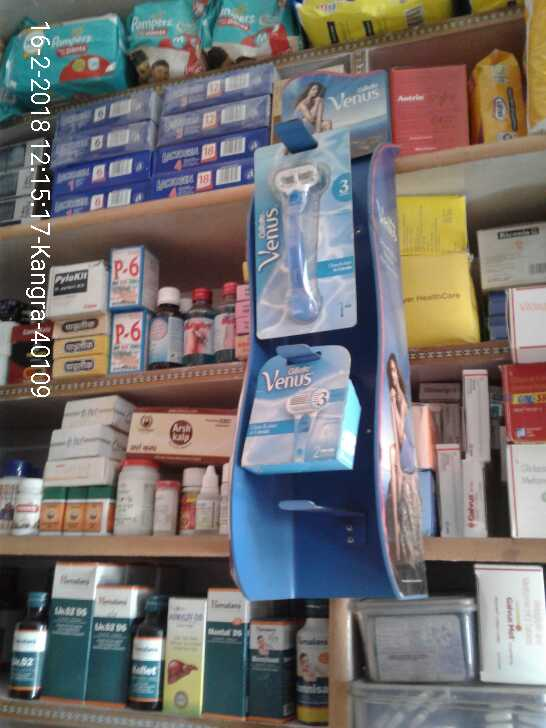beauty: (241, 139, 351, 328), (243, 345, 364, 480)
pharmacy: (121, 7, 206, 84), (209, 1, 306, 65)
